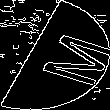M_NW: (10, 24, 100, 86)
